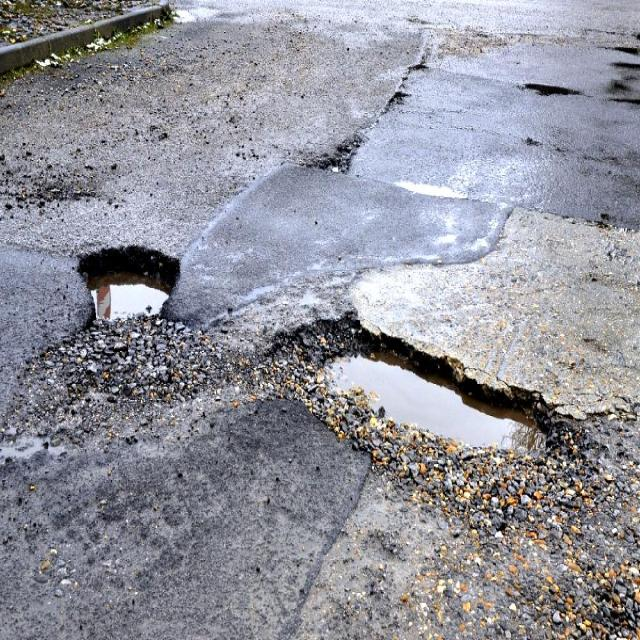pothole: (297, 336, 557, 461), (77, 239, 179, 317)
